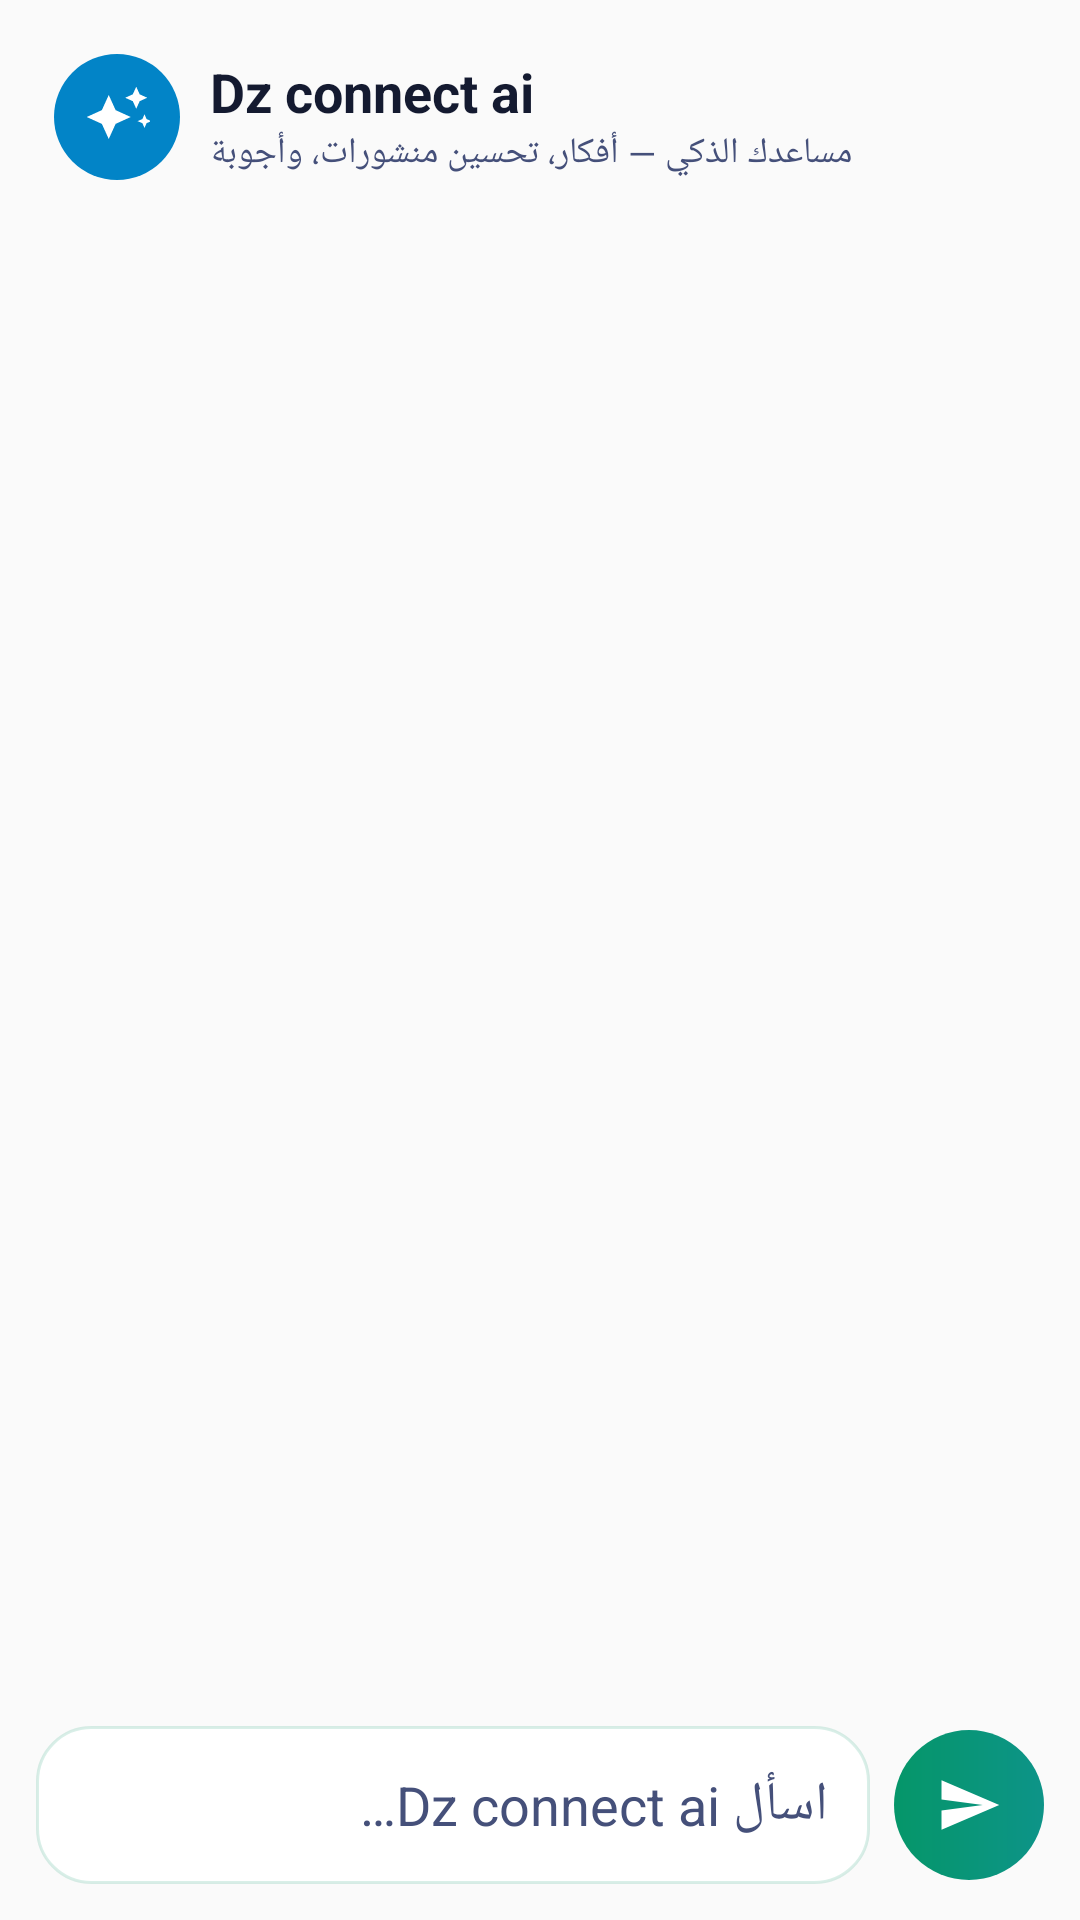

Icons on this 1080 × 1920 Android screen, each with the point to tap as [x,y]:
send: [969,1805]
spark: [117,117]
